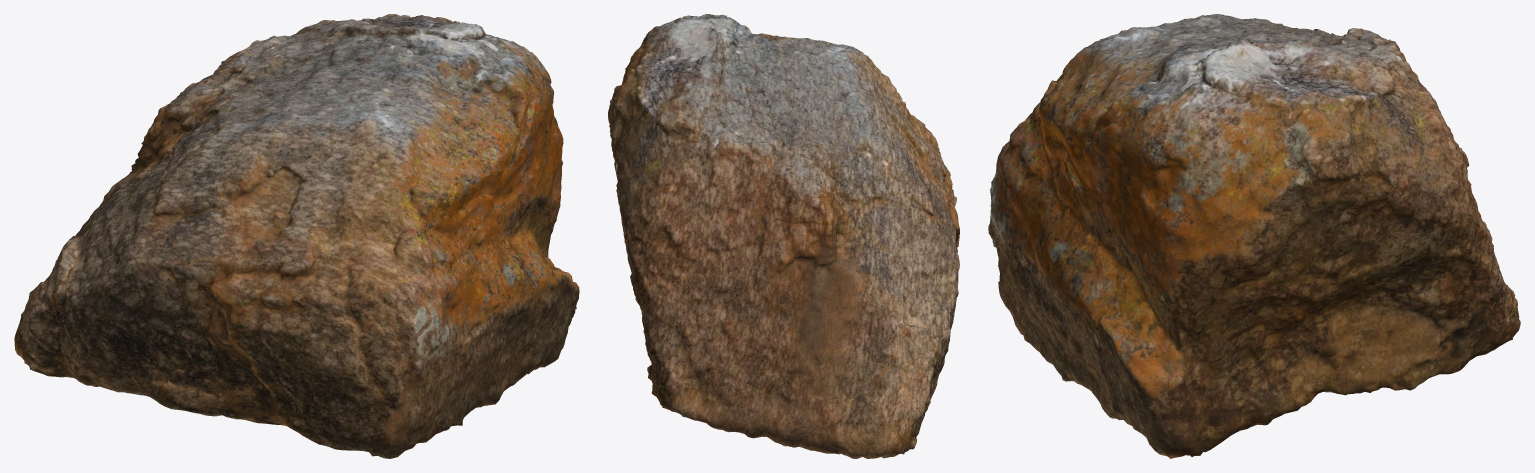
File: namaqualand_boulder_04.glb
3 renders of one model, left to right at view 1: azimuth 30°, elevation 25°; view 2: azimuth 150°, elevation 25°; view 3: azimuth 270°, elevation 25°, orthographic. The views are drawn at different scales.
Visible parts, largest first — view 1: boulder_04; view 2: boulder_04; view 3: boulder_04.
Boxes of the visible parts, bbox=[...] form: boulder_04: bbox=[14, 14, 579, 458]; boulder_04: bbox=[608, 14, 959, 458]; boulder_04: bbox=[988, 14, 1520, 458].
Bounding box in the file's own units: 2.52 × 1.9 × 2.5.
1 material, 1 textured.
